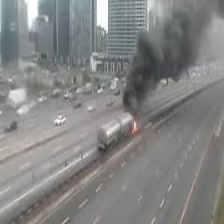smoke: (127, 11, 190, 109)
